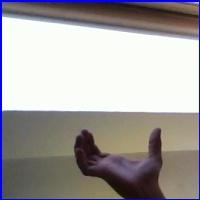space: (65, 124, 167, 190)
